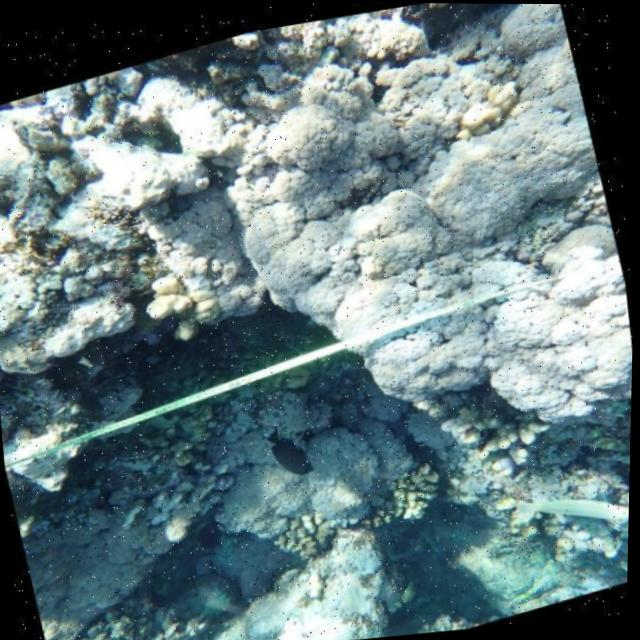Bleached Coral: (163, 1, 640, 512)
